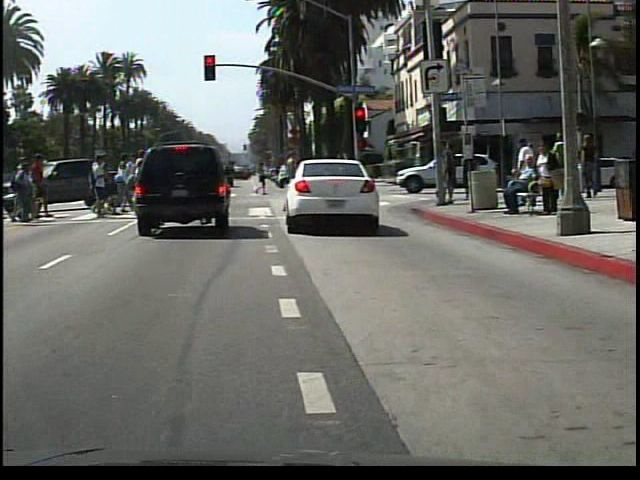person: (504, 154, 546, 215), (536, 139, 568, 219), (277, 147, 309, 214)
